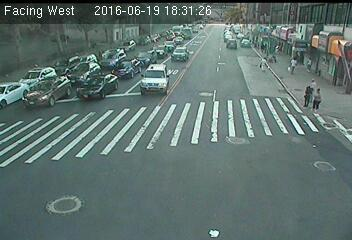neg: (220, 171, 252, 215), (250, 110, 279, 149), (302, 154, 330, 193), (77, 121, 105, 158), (45, 61, 73, 98), (161, 93, 189, 129), (140, 149, 167, 186), (14, 130, 41, 166), (109, 58, 135, 93), (58, 181, 81, 212), (169, 32, 190, 59), (319, 36, 340, 63), (225, 29, 244, 56), (29, 36, 47, 60), (227, 77, 244, 100), (225, 129, 242, 151)
pos: (311, 87, 330, 112), (298, 83, 315, 105), (288, 53, 304, 74), (253, 53, 268, 73), (302, 53, 317, 73)
